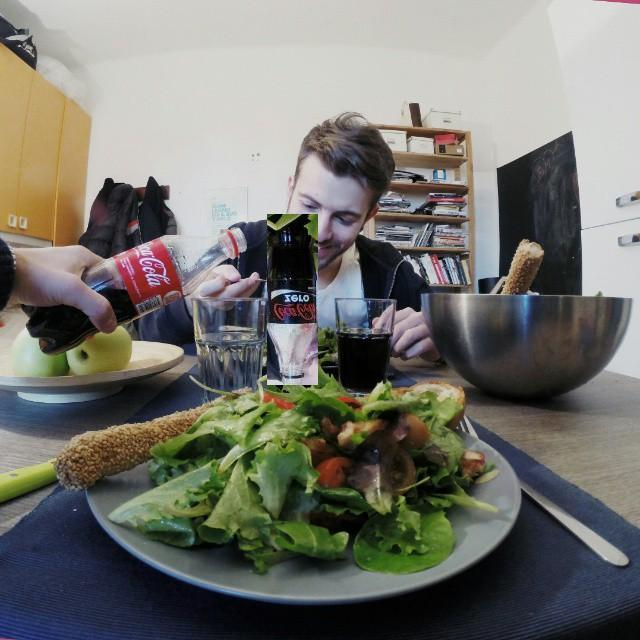coca-cola: (21, 226, 247, 355), (267, 214, 318, 385)
